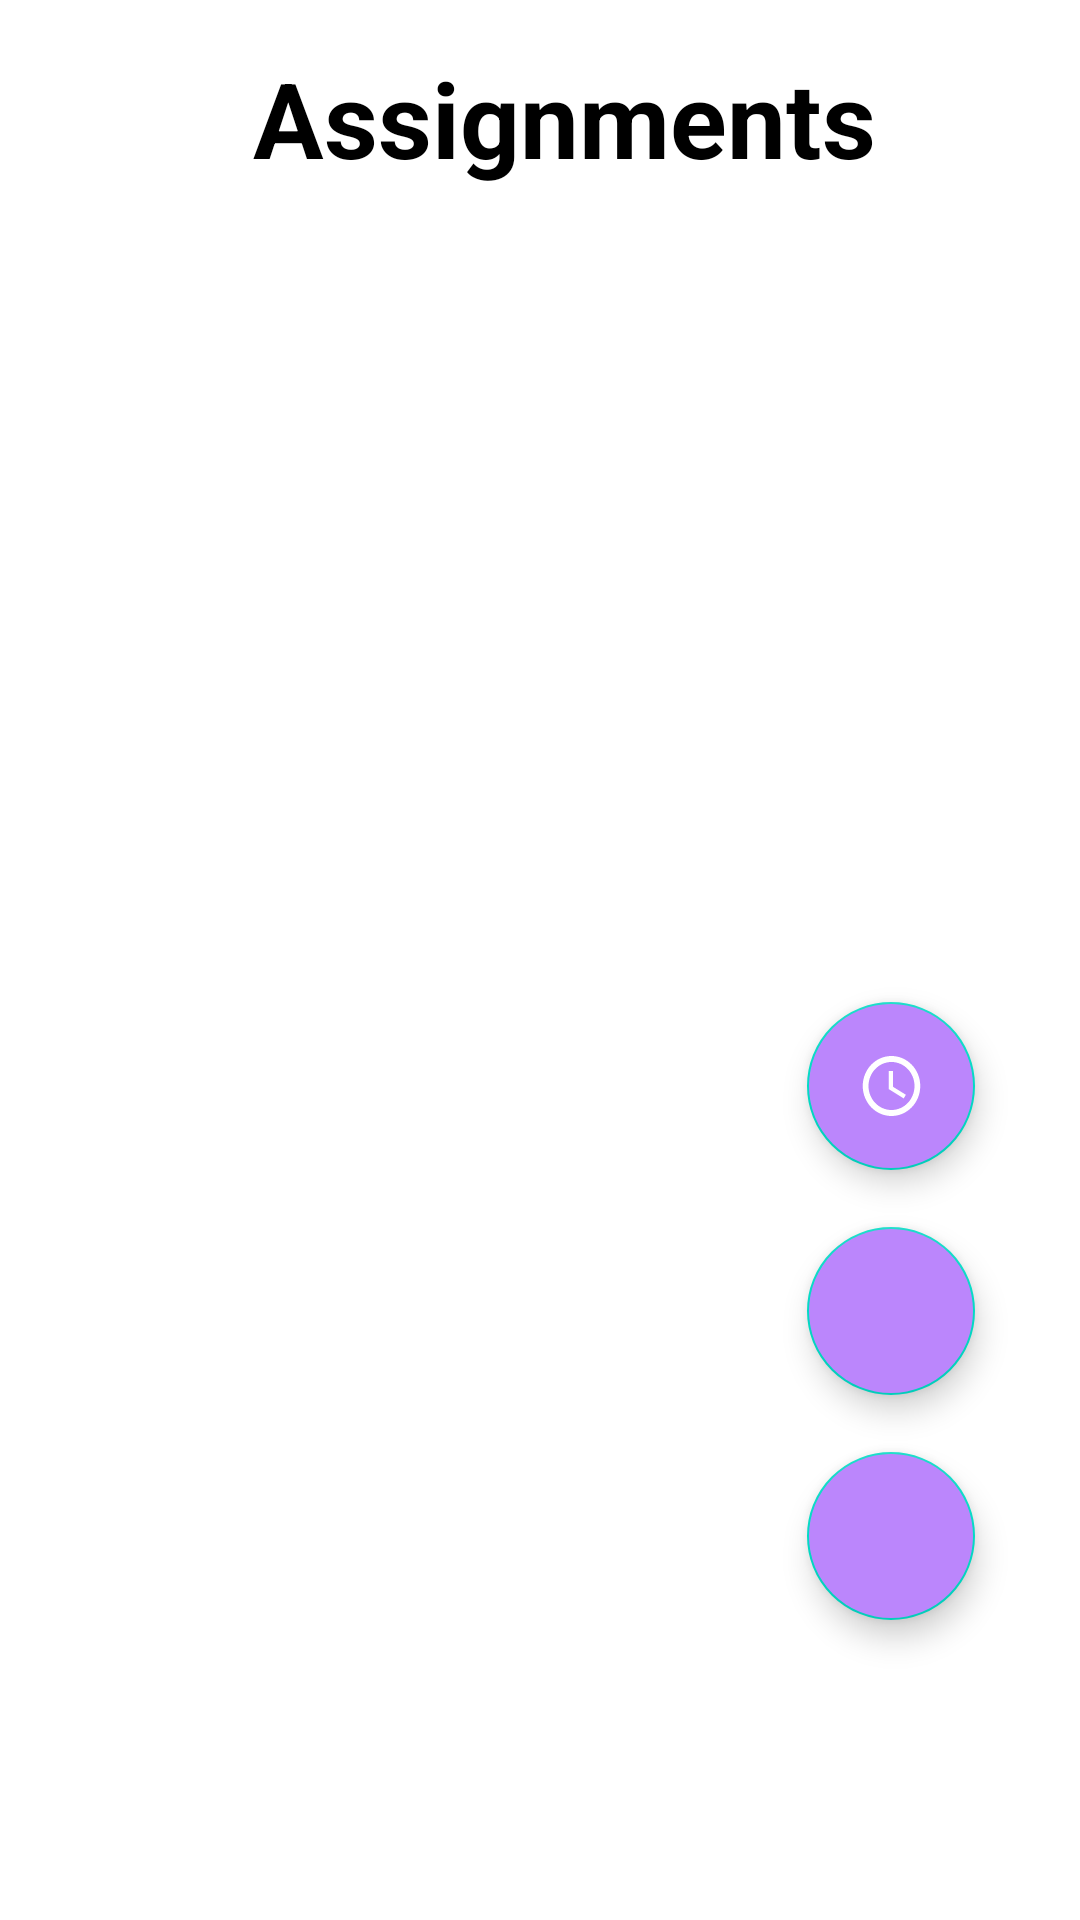

Where to tap for icons on this 1080×1920 app screen, as (x=x, y=y):
time: (x=891, y=1086)
